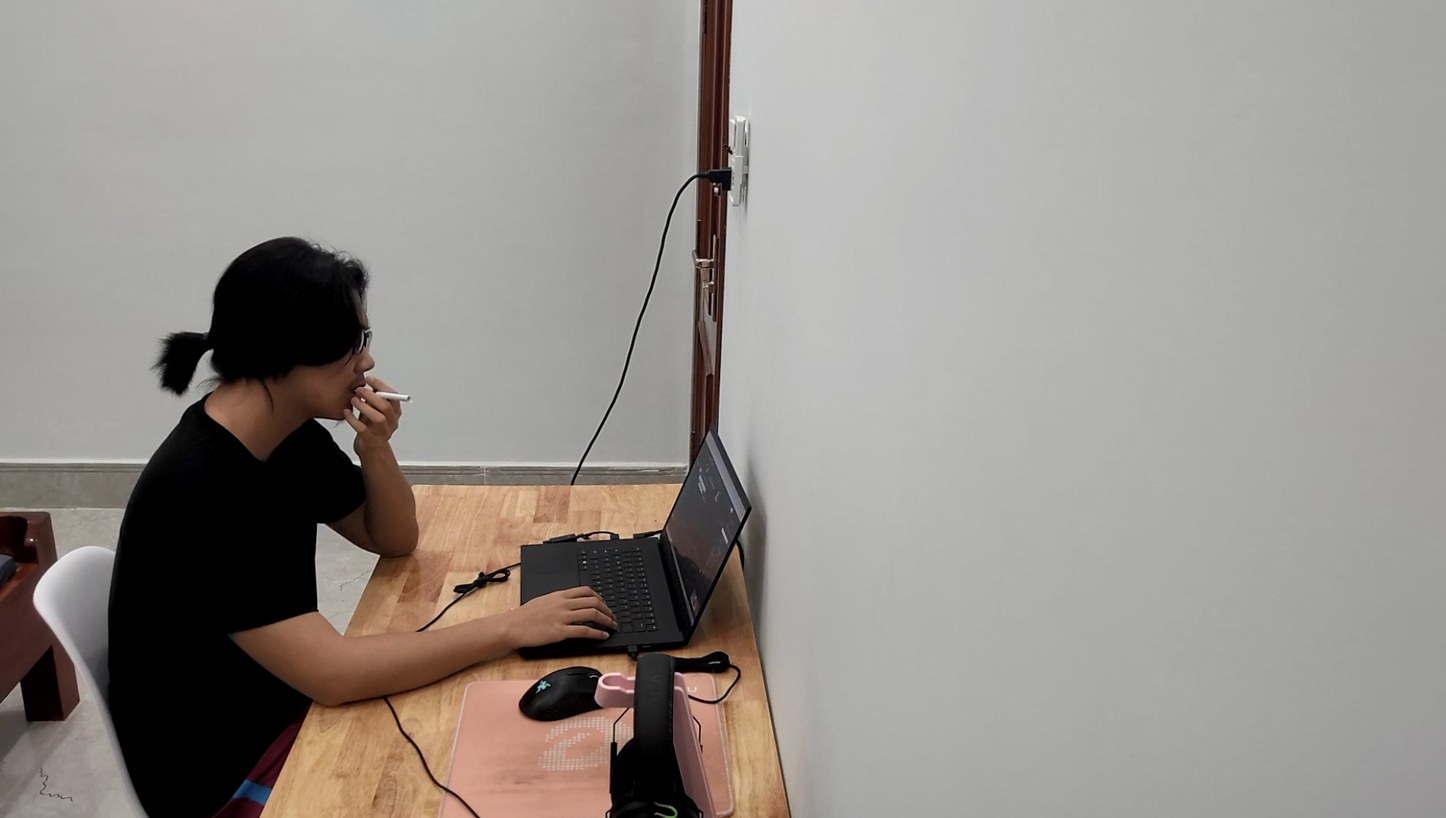cigarette: (375, 374, 414, 412)
person: (86, 214, 427, 818)
